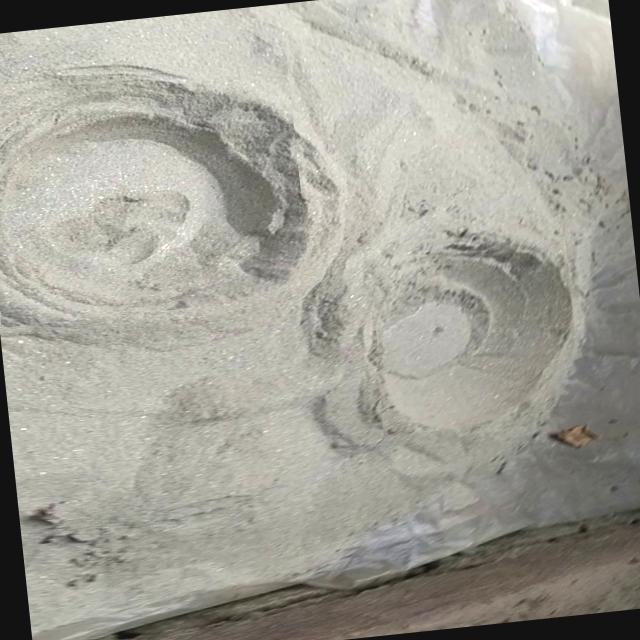C20: (0, 72, 302, 320), (376, 249, 577, 429)
